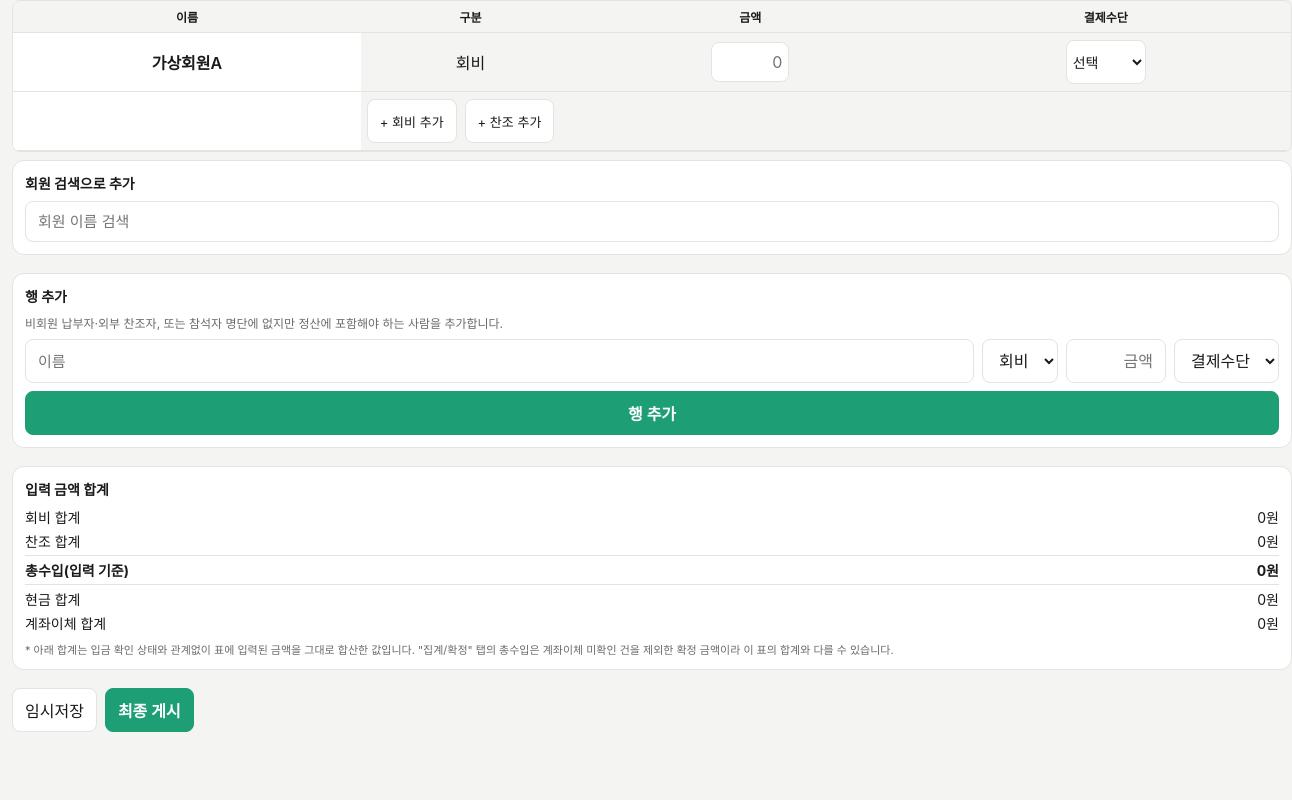
Test: 모바일 표 레이아웃 — 열 중앙 정렬 및 스크롤 보호 › 계좌이체 결제수단은 확인상태 select가 계속 보인다(레이아웃 변경 후에도 정책 유지)
Select "계좌이체" in the dropdown named "가상회원A 회비 결제수단". click: (1106, 62)
box: [1066,40,1146,84]
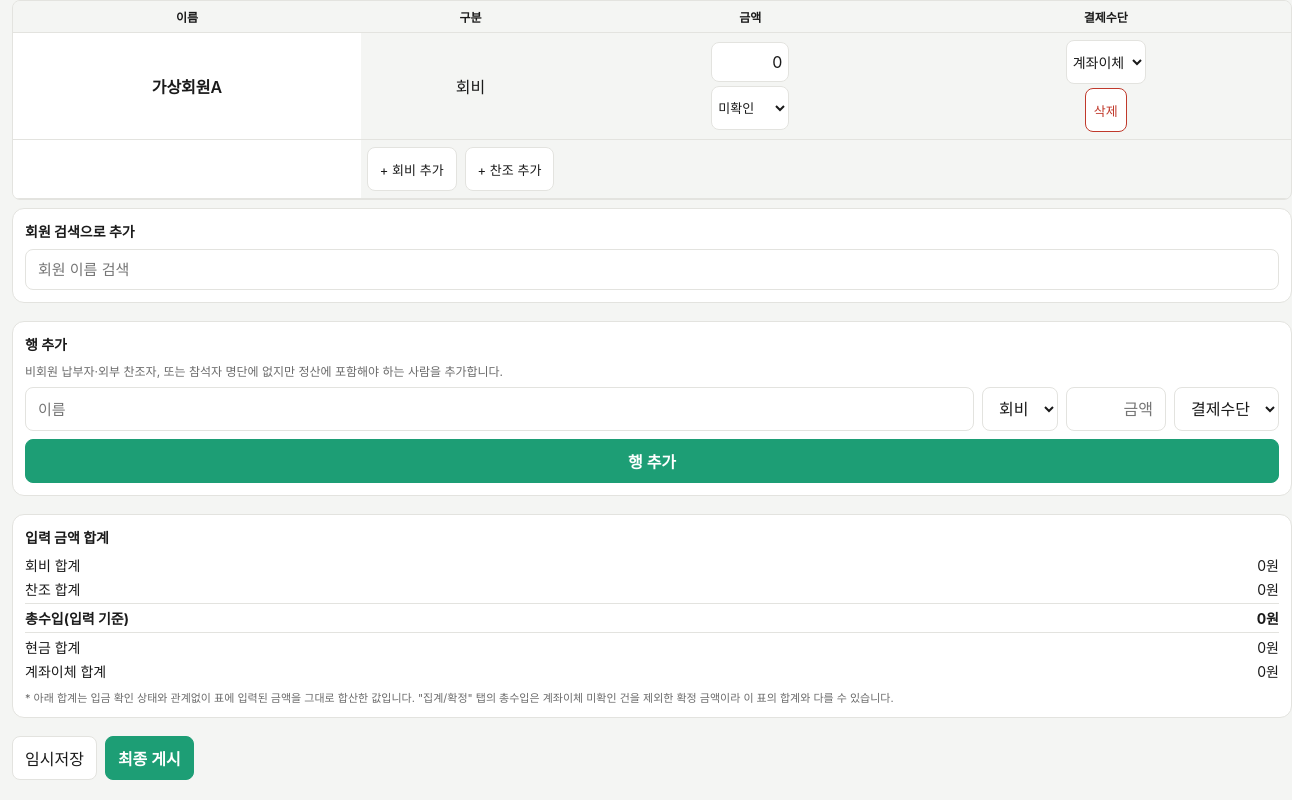
Check: the dropdown named "가상회원A 회비 확인상태" is shown, box [711,86,789,130]
